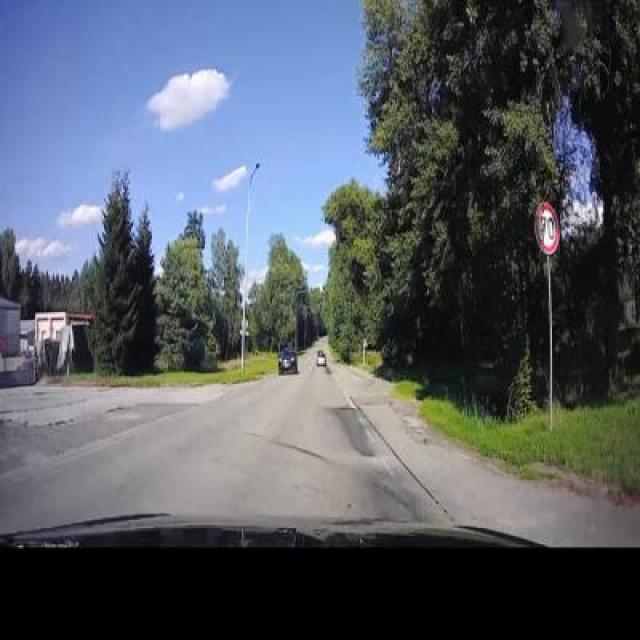clear-road: (0, 348, 454, 535)
